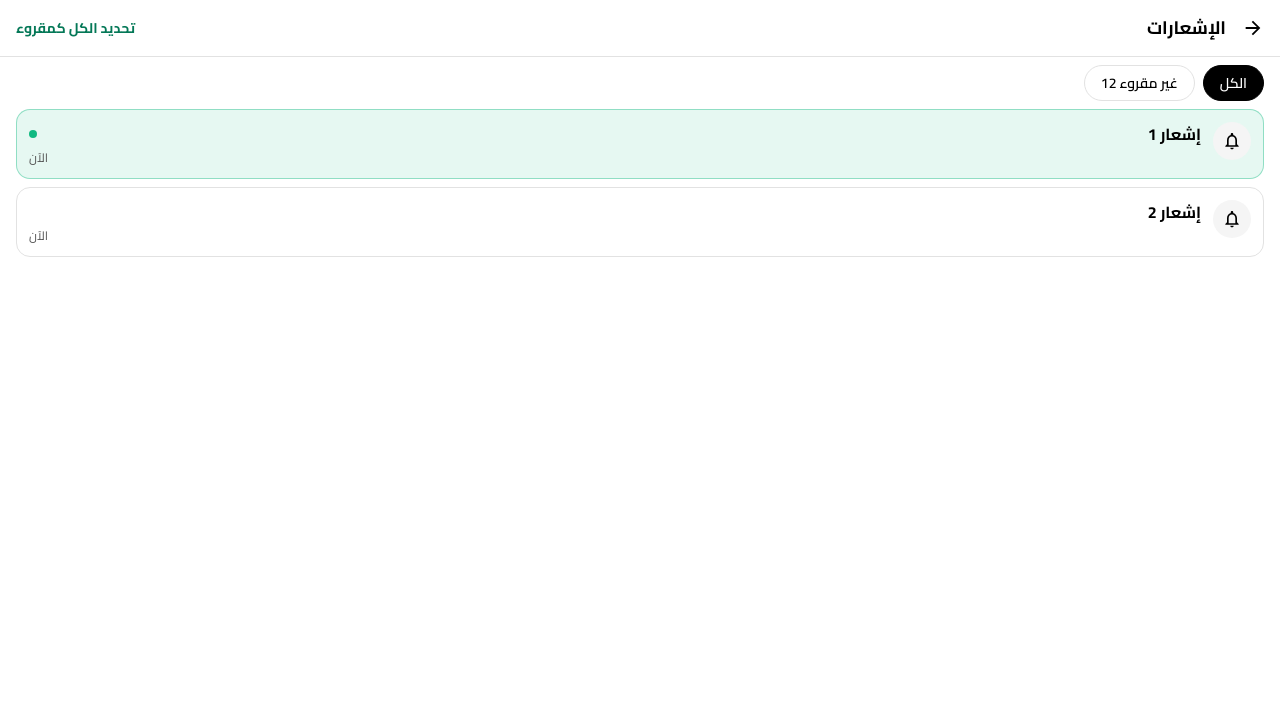
Test: Notifications › puts the row back to unread and says so when marking it read fails
This screenshot has width=1280, height=720.
Click the text "إشعار 1". click: (1174,134)
box: x1=1148 y1=119 x2=1201 y2=149
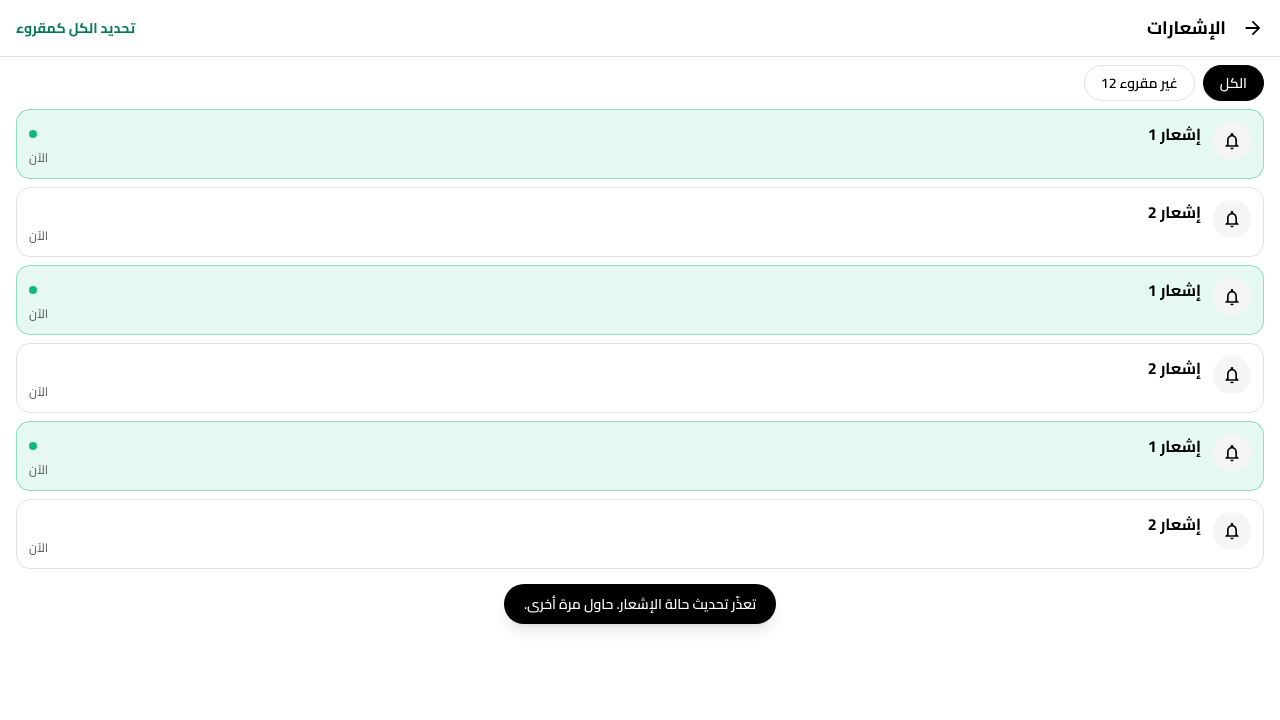
Now the text "تعذّر تحديث حالة الإشعار. حاول مرة أخرى." is shown, box x1=504 y1=584 x2=776 y2=624
